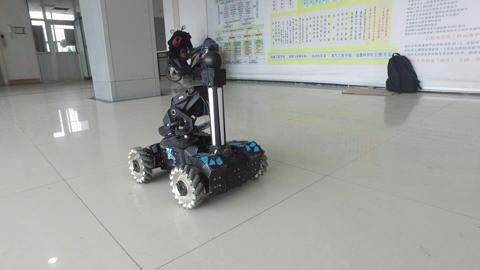bag: (380, 48, 428, 101)
chariot: (127, 50, 270, 218)
